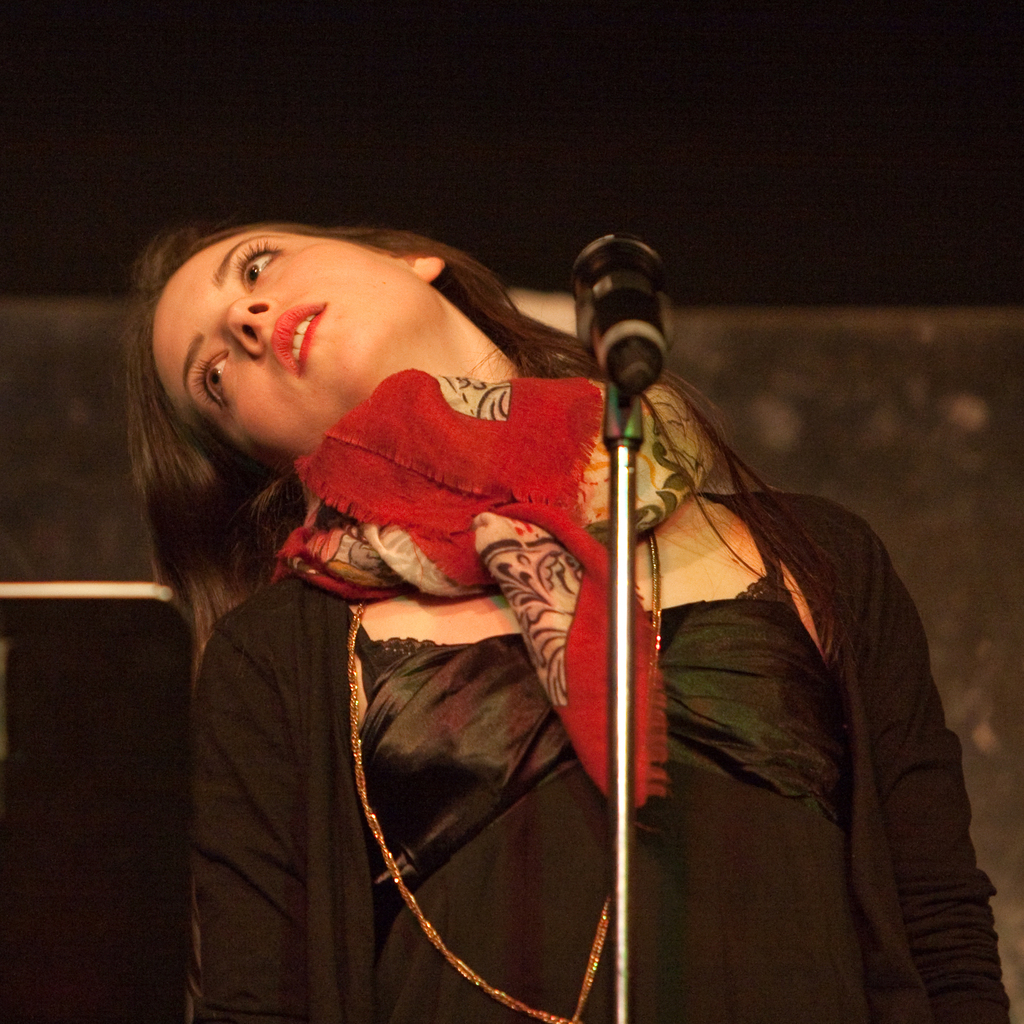Human-face: (136, 198, 424, 472)
